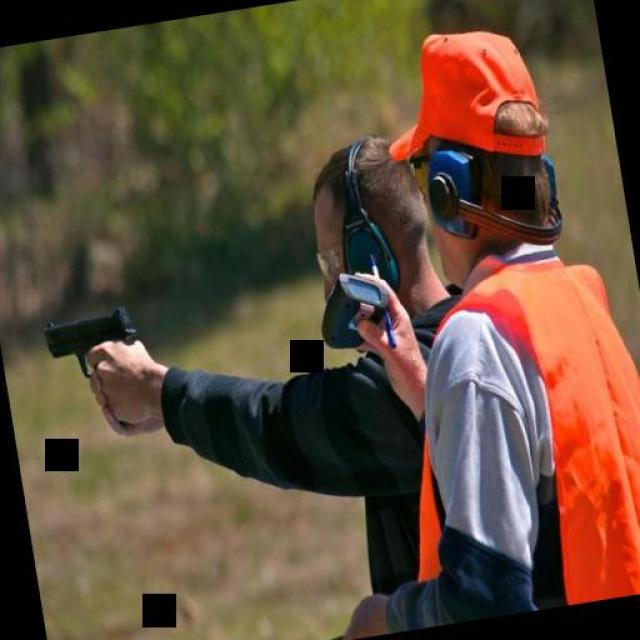gun: (34, 298, 144, 390)
